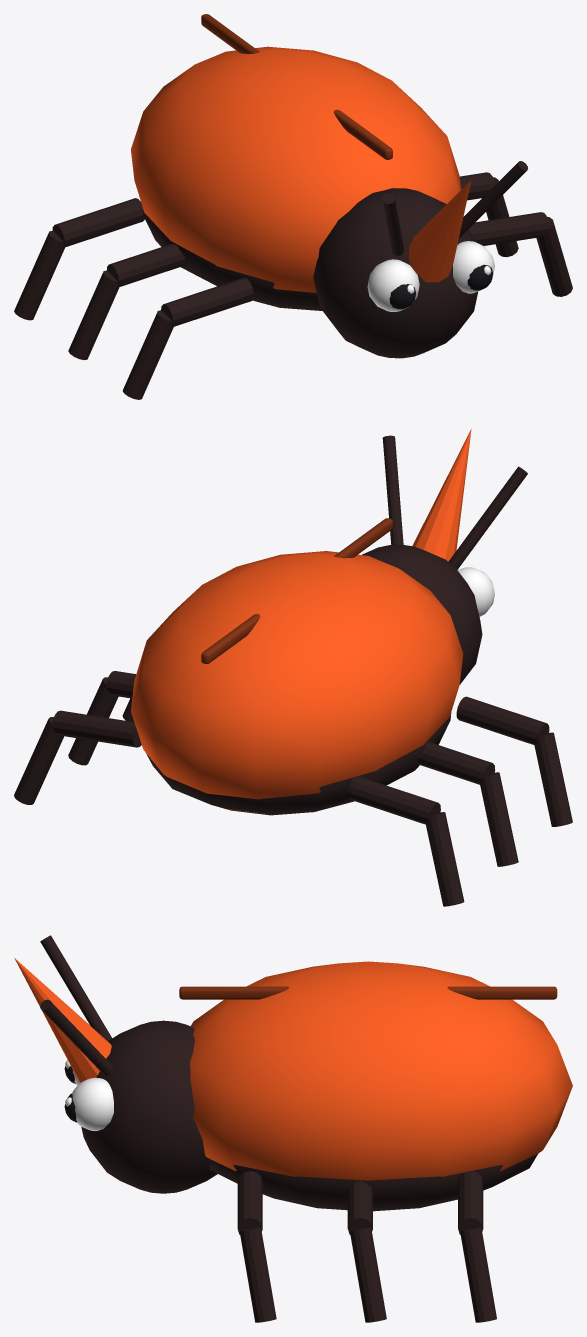
The picture shows the model from 3 angles, top to bottom: view 1: azimuth 30°, elevation 25°; view 2: azimuth 150°, elevation 25°; view 3: azimuth 270°, elevation 25°; orthographic projection.
Parts seen in each view (by area): view 1: Lava Beetle; view 2: Lava Beetle; view 3: Lava Beetle.
Part boxes in pixels (x1,y1,x2,y2): Lava Beetle: [14, 14, 572, 399]; Lava Beetle: [14, 429, 572, 906]; Lava Beetle: [14, 935, 572, 1322].
Bounding box in the file's own units: 3.33 × 1.83 × 3.55.
Materials: 1 (1 with a texture image).
